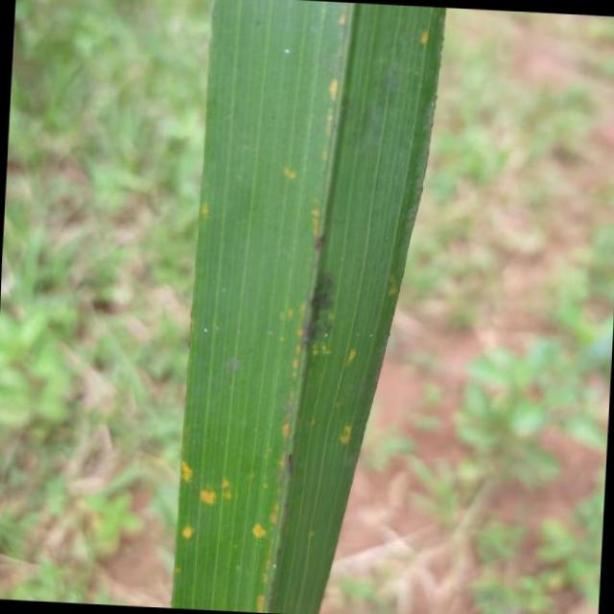Kalium: (171, 0, 446, 614)
